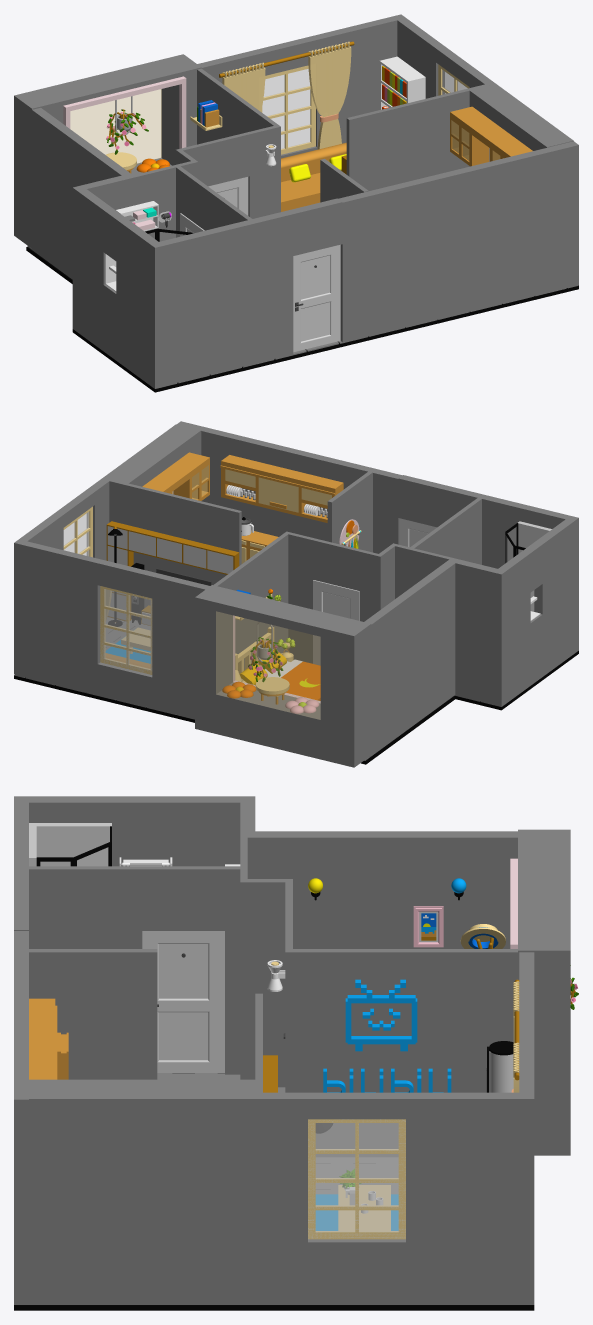
File: one living room.glb
3 views of the same model, one above another, from view 1: azimuth 30°, elevation 25°; view 2: azimuth 150°, elevation 25°; view 3: azimuth 270°, elevation 25° (orthographic). The views are drawn at different scales.
Parts seen in each view (by area): view 1: box (×40), quarterCylinder (×3), halfCylinder; view 2: box (×50), cylinder; view 3: box (×39), cylinder.
Part boxes in pixels (box(x1,y1,x2,y2)): box (×40): box(14, 14, 578, 392); quarterCylinder (×3): box(247, 46, 351, 117); halfCylinder: box(281, 142, 346, 168); box (×50): box(14, 421, 578, 767); cylinder: box(255, 677, 289, 694); box (×39): box(14, 796, 570, 1310); cylinder: box(491, 1052, 513, 1092).
Bounding box in the file's own units: 95 × 31.25 × 74.93.
